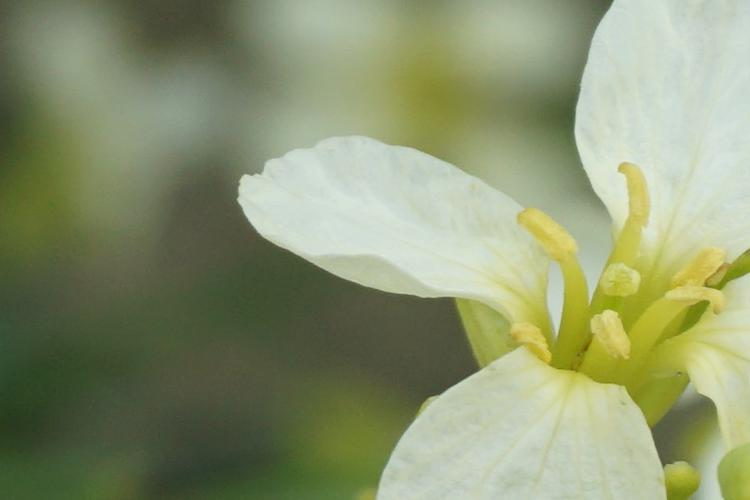white: (244, 3, 749, 496)
